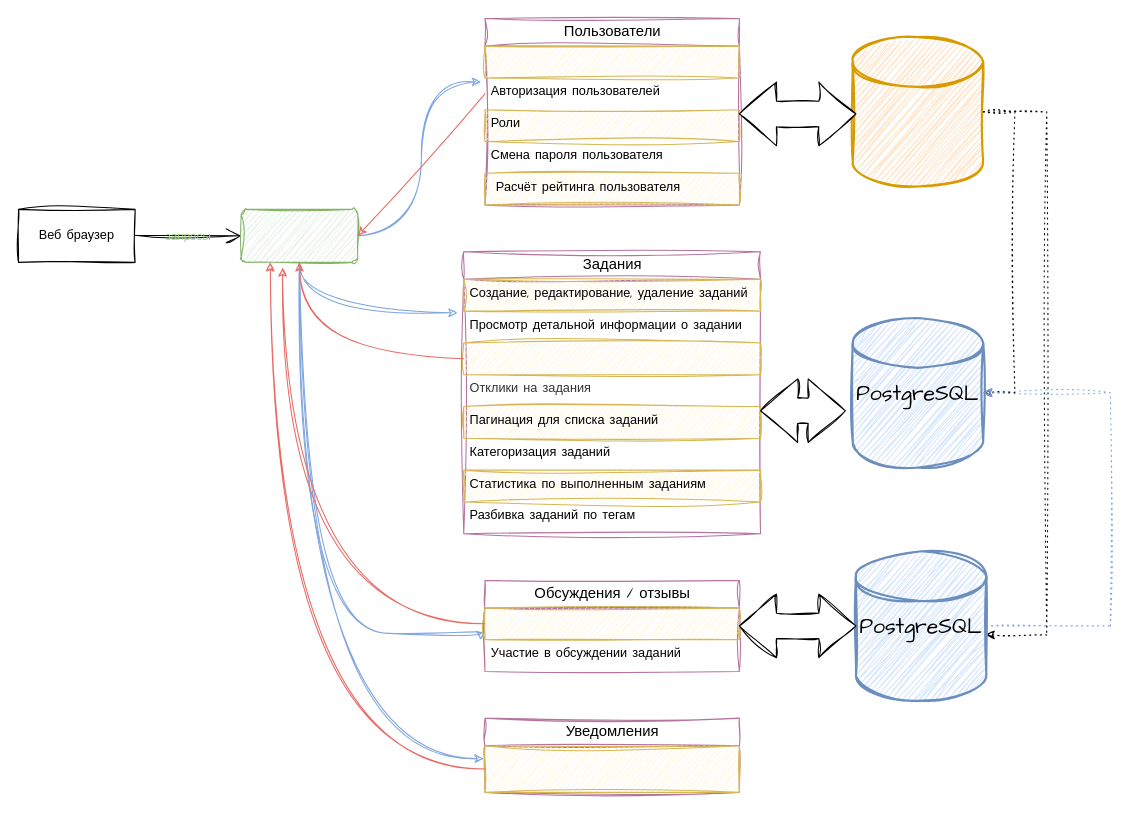
Some shapes in this 1137 by 814 pixel diagram are drawn without their labels. Each missing label, with the centre of its shape:
MongoDB: the point at 917,111
Балансировщик: the point at 299,235
Загрузка изображений для заданий: the point at 612,358
Отзывы: the point at 611,623
Рассылка почтовых уведомлений на email о появлении новых заданий: the point at 611,768
Регистрация новых пользователей: the point at 611,61
